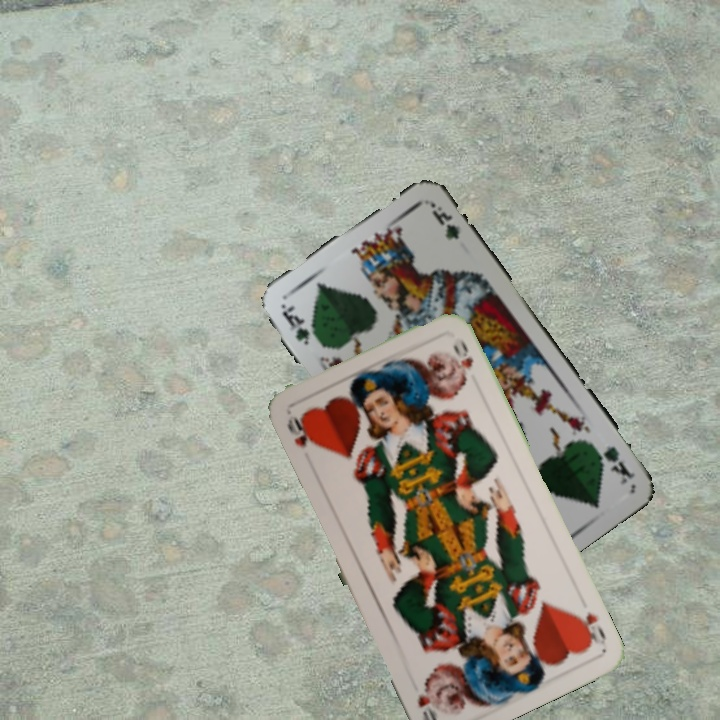GK: (589, 439, 638, 487), (278, 301, 323, 348)
HO: (570, 607, 609, 649), (282, 411, 310, 450)
